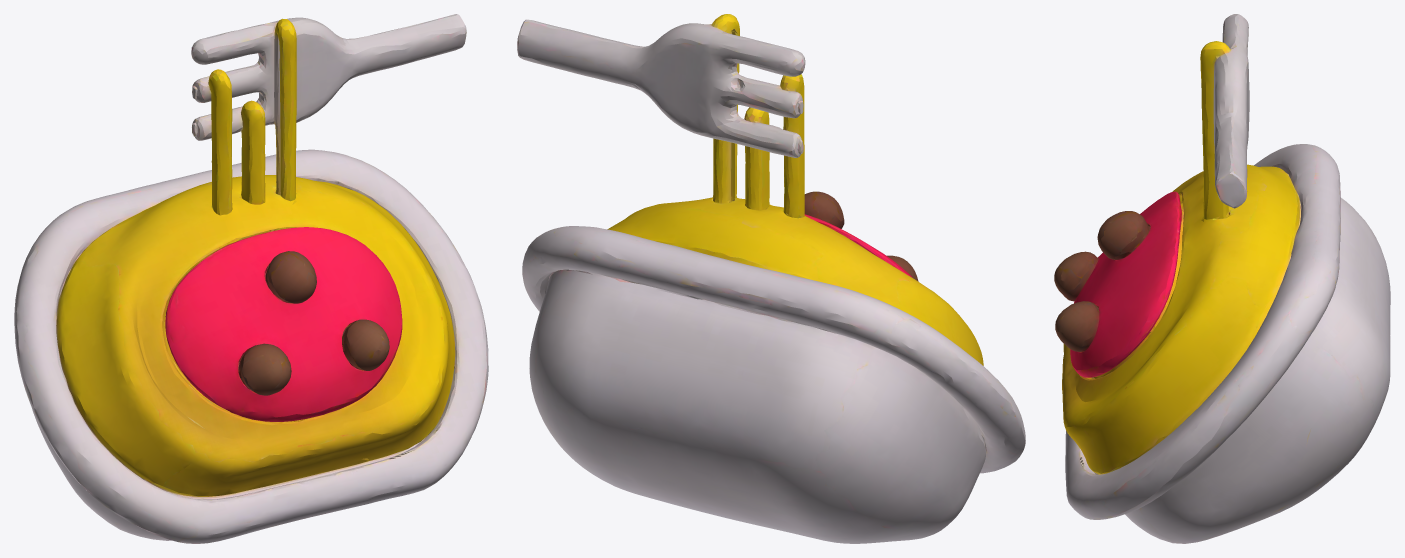
Rendered from spaghetti.glb.
3 renders of one model, left to right at view 1: azimuth 30°, elevation 25°; view 2: azimuth 150°, elevation 25°; view 3: azimuth 270°, elevation 25°, orthographic. The views are drawn at different scales.
Visible parts, largest first — view 1: Mesh; view 2: Mesh; view 3: Mesh.
Boxes of the visible parts, x1,y1,x2,y2 form: Mesh: (14, 14, 488, 543); Mesh: (517, 14, 1025, 543); Mesh: (1054, 14, 1390, 543).
Size of the model in its own units: 0.9866 by 1 by 0.6477.
Materials: 1 (1 with a texture image).
